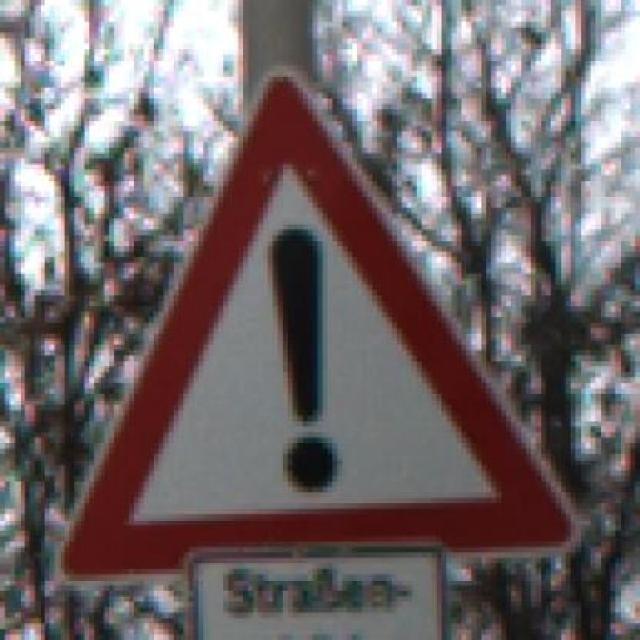Attention Please-: (57, 41, 583, 588)
